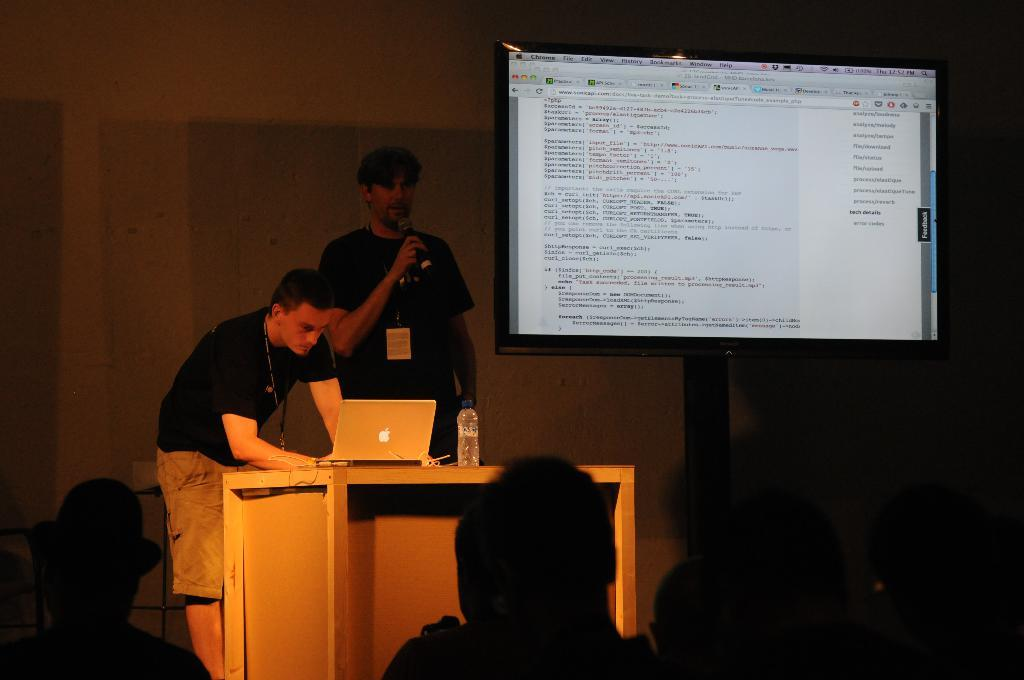Computer-keyboard: (317, 397, 437, 466)
Computer-monitor: (491, 38, 950, 359)
